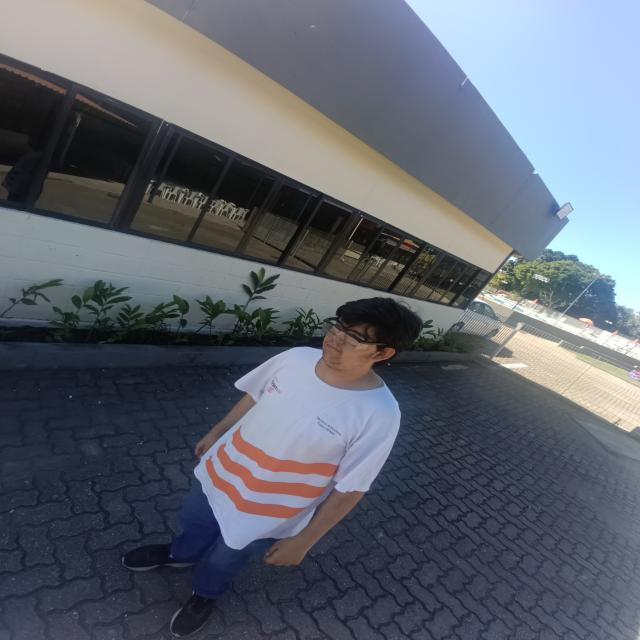oculos-epi: (322, 319, 385, 352)
